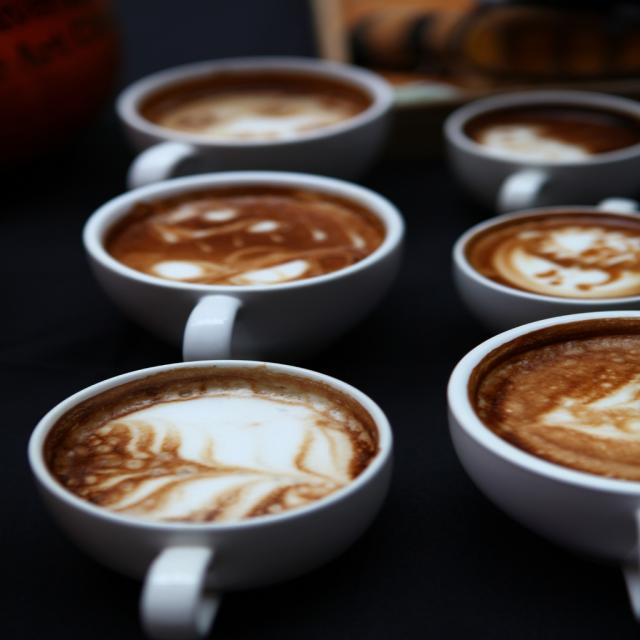Coffee: (46, 359, 423, 576), (105, 189, 391, 289), (470, 314, 639, 482), (131, 70, 374, 136), (460, 216, 640, 297), (465, 104, 639, 158)
